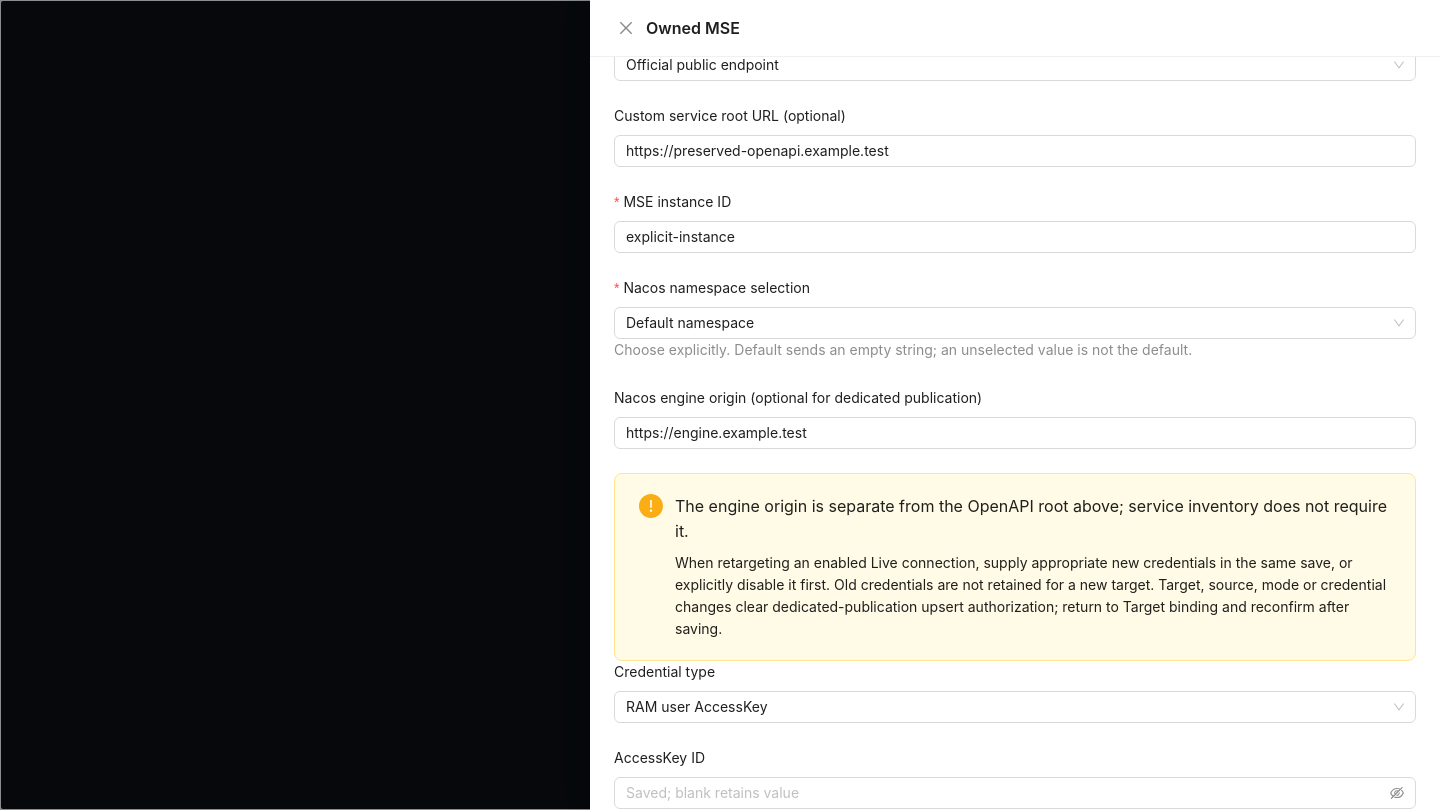
Test: keeps the engine and credential draft after HTTP 401 without a version bump or automatic save
(page scrolled)
Replace the text in the field labelled "Nacos engine origin (optional for dedicated publication)" with "https://draft-engine.example.test". click: (1015, 433)
box: [614, 417, 1416, 449]
(page scrolled)
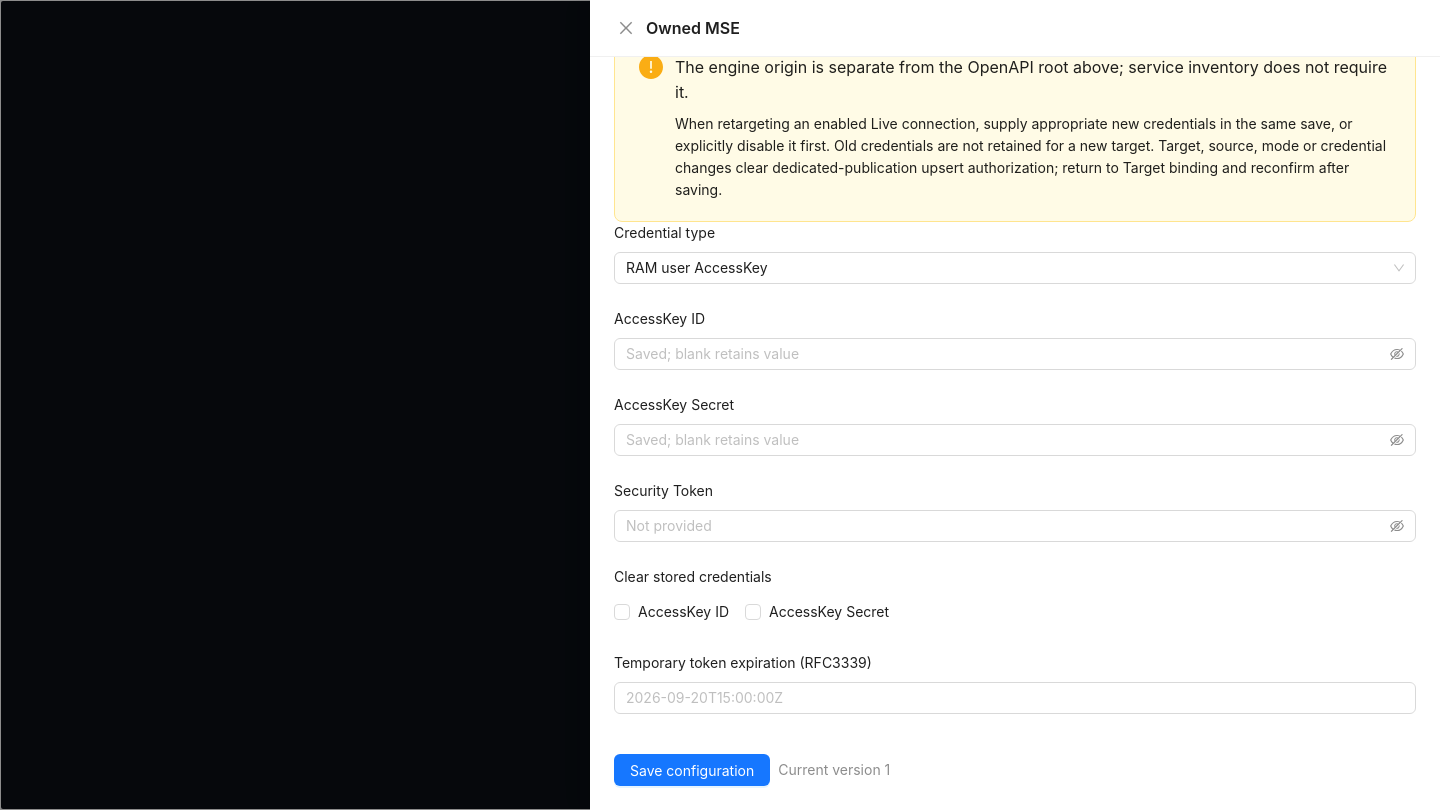
Type "synthetic-draft-secret" into the password field labelled "AccessKey Secret". click: (1006, 440)
box: [626, 429, 1386, 451]
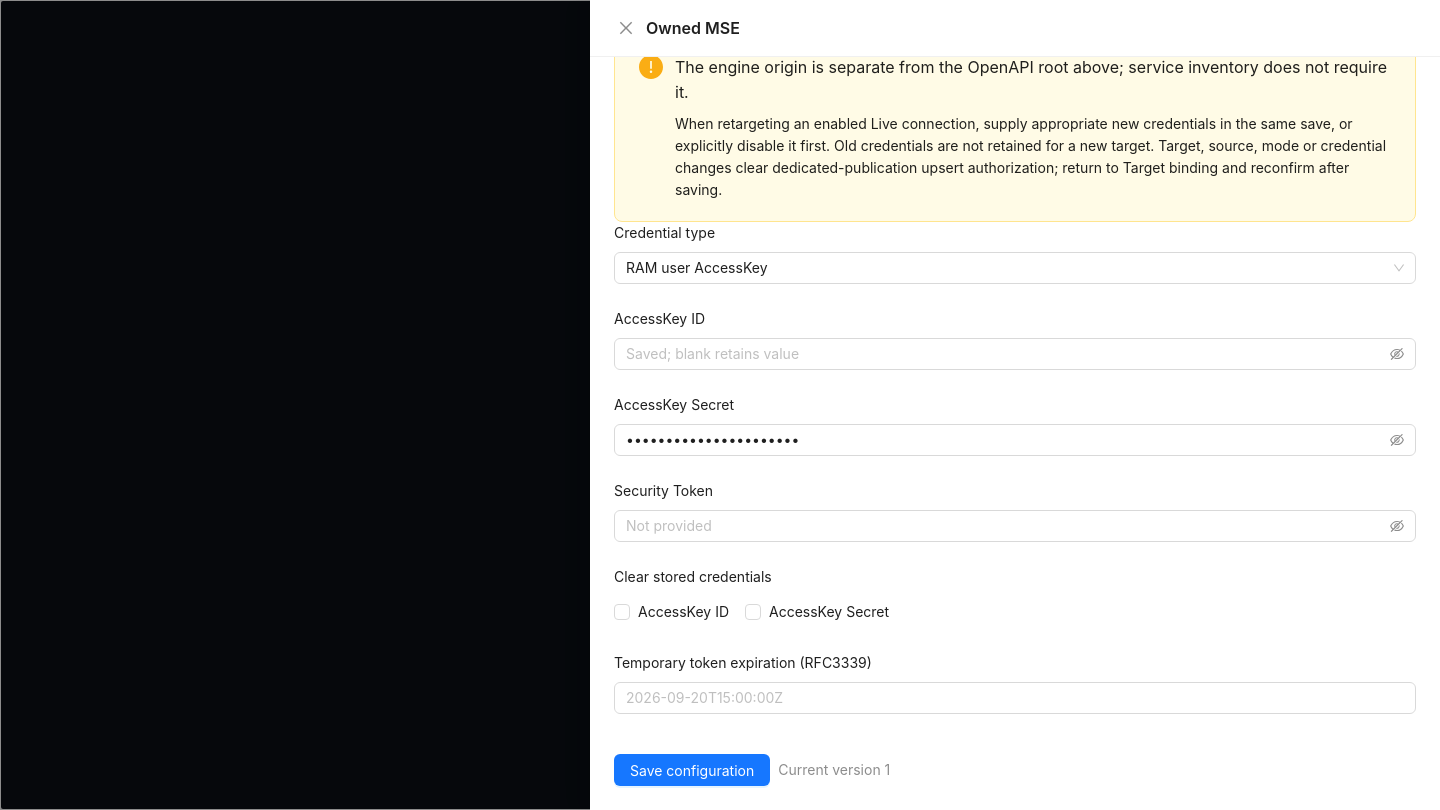
Click the button "Save configuration". click: (692, 770)
box: [614, 754, 770, 786]
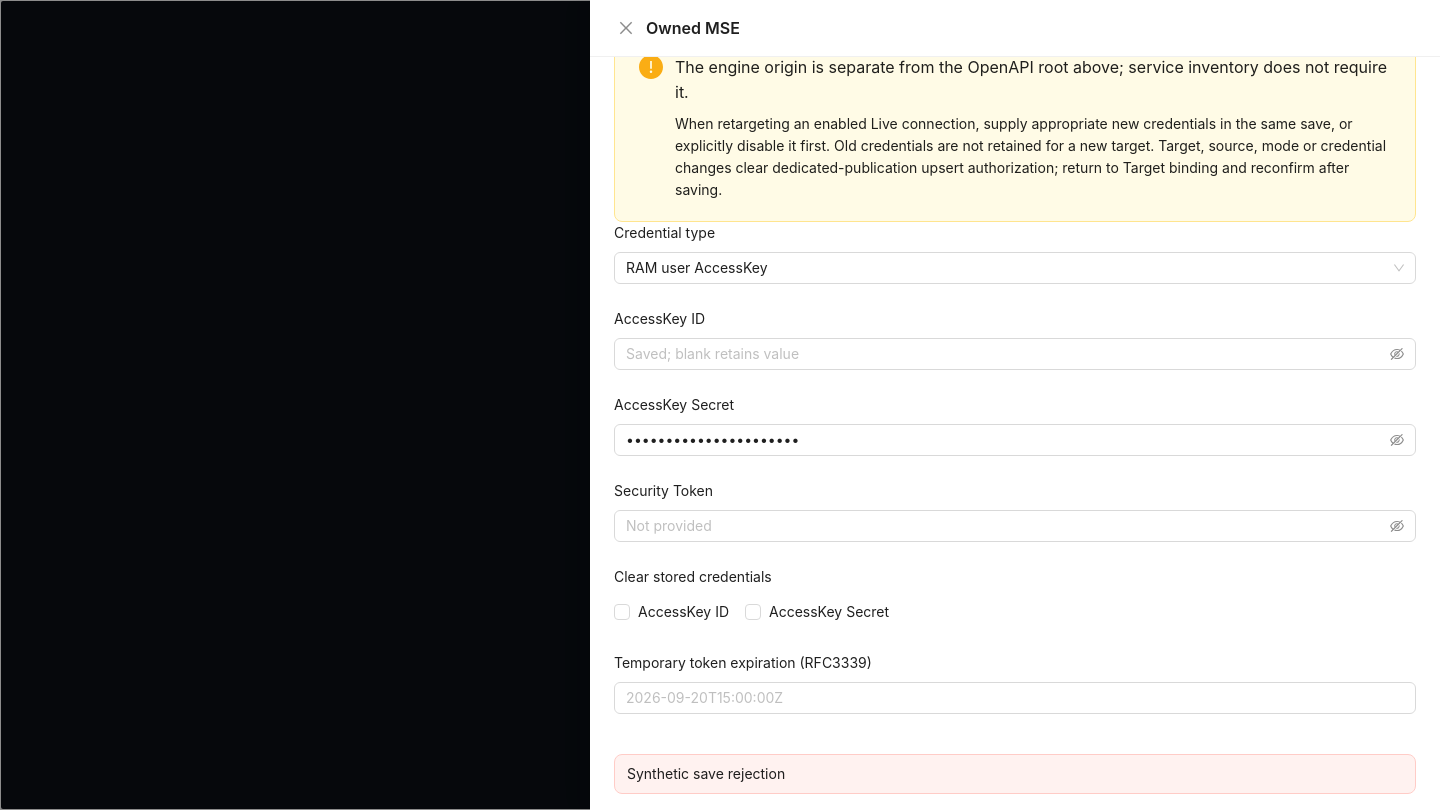
Check: the text "Synthetic save rejection" is shown, box [627, 765, 785, 782]
